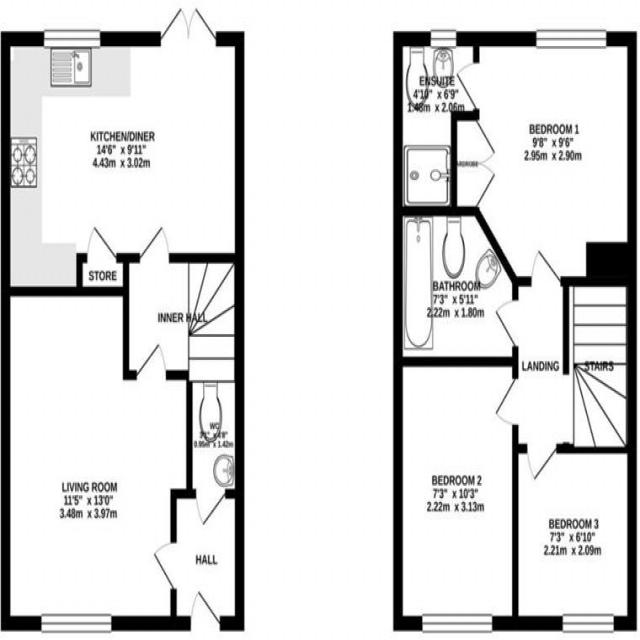DOOR: (188, 585, 227, 631), (193, 487, 229, 531), (131, 340, 169, 381), (524, 442, 560, 485), (150, 539, 177, 594), (528, 244, 563, 286), (494, 371, 519, 429), (136, 223, 172, 263), (493, 297, 519, 348), (455, 60, 480, 110)
DOUBLE DOOR: (157, 4, 219, 48)
ROOM: (1, 3, 245, 295), (0, 288, 192, 633), (453, 31, 638, 286), (393, 357, 519, 630), (518, 441, 637, 631)
WINDOW: (534, 27, 607, 52), (420, 612, 494, 636), (41, 612, 113, 635), (43, 25, 102, 50), (561, 611, 615, 635), (429, 25, 458, 51)
